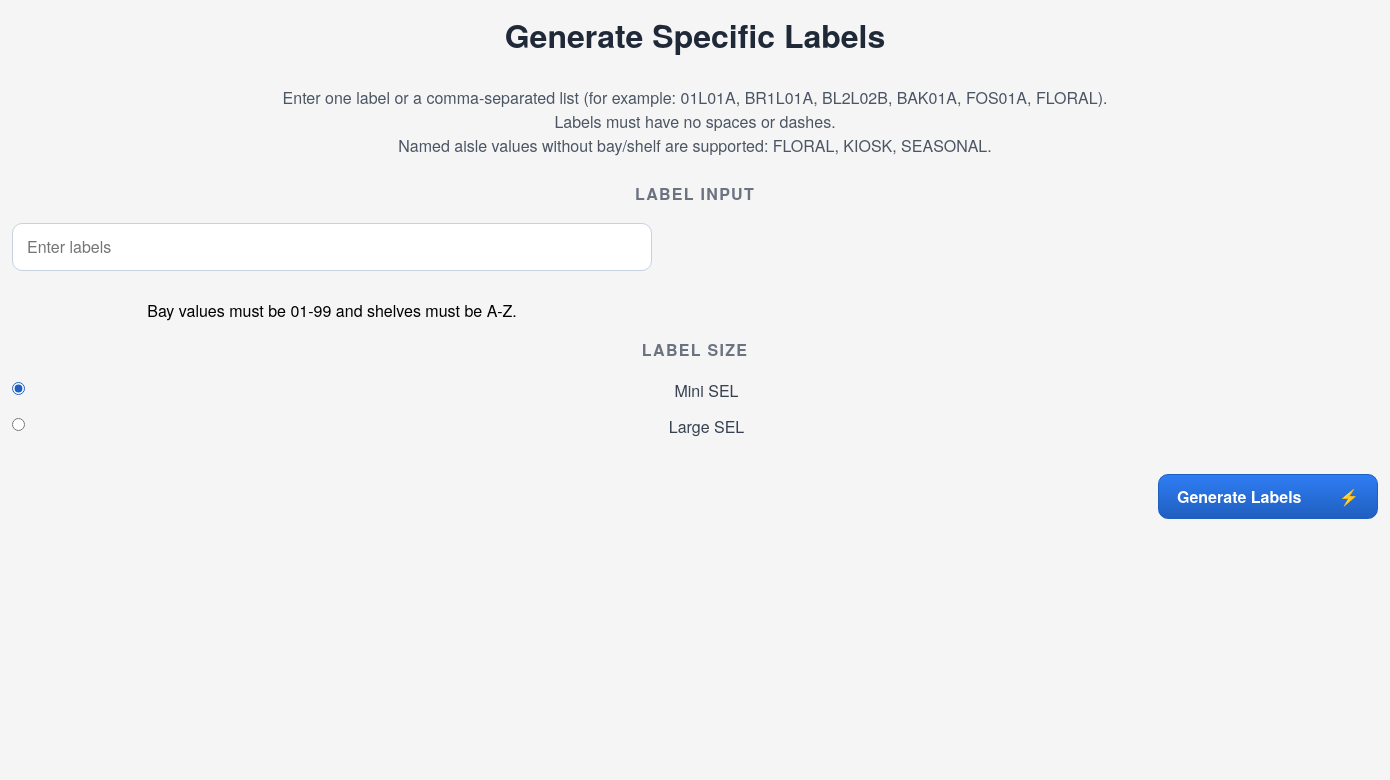
Scenario: SpecificLabelForm › blocks special codes (e.g. KIOSK) when large-sel mode is selected
The width and height of the screenshot is (1390, 780).
Click the radio button labelled "Large SEL" at (18, 424), box [12,418,25,431]
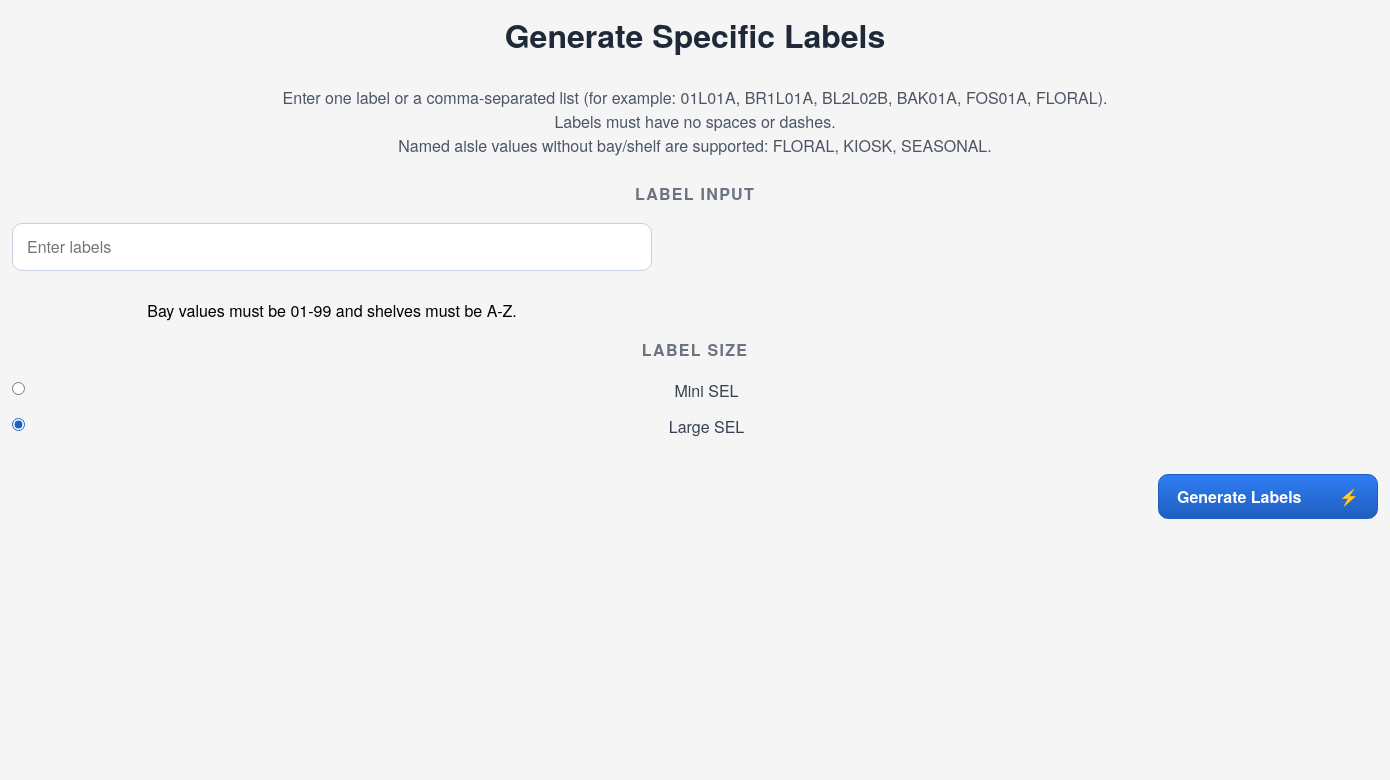
Type "KIOSK" into the field with placeholder "Enter labels" at (332, 247), box [12,223,652,271]
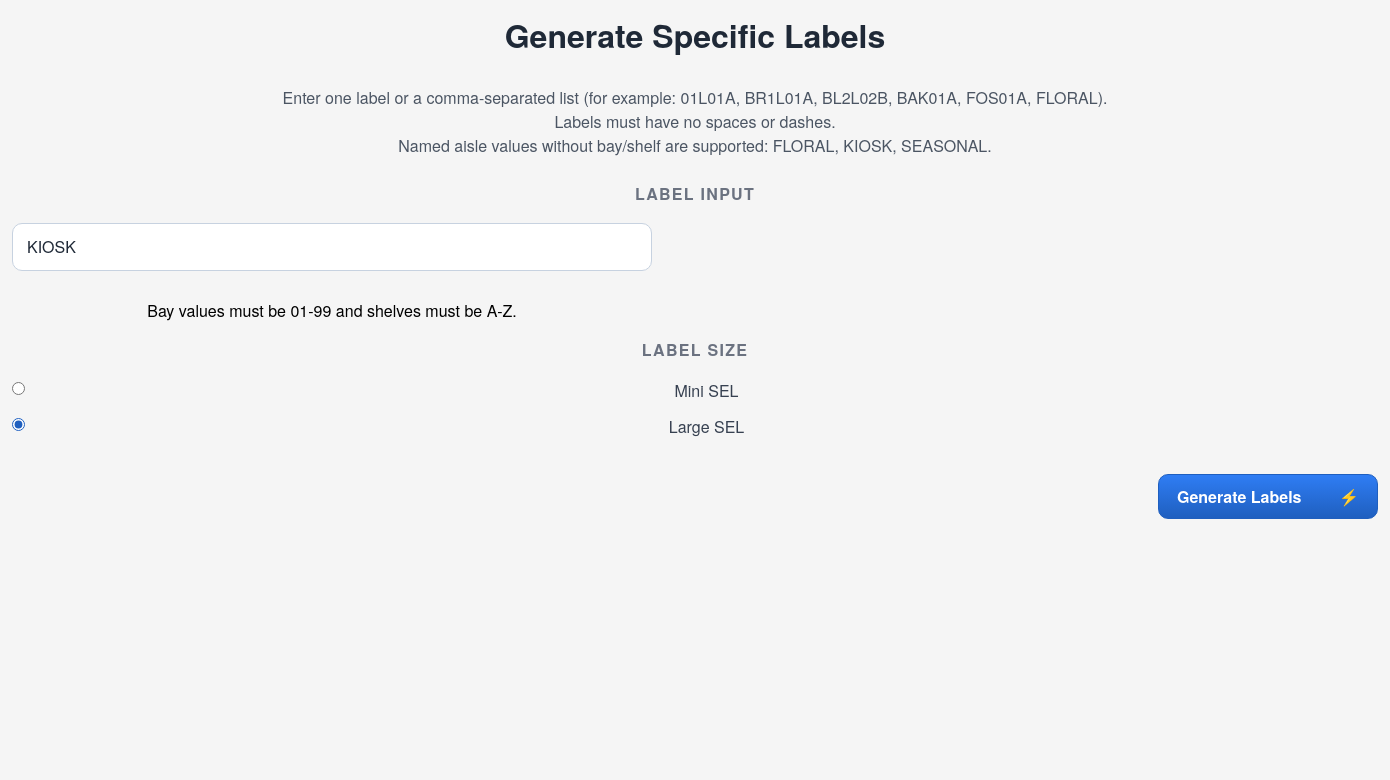
Click the button "Generate Labels ⚡" at (1268, 496), box [1158,474,1378,519]
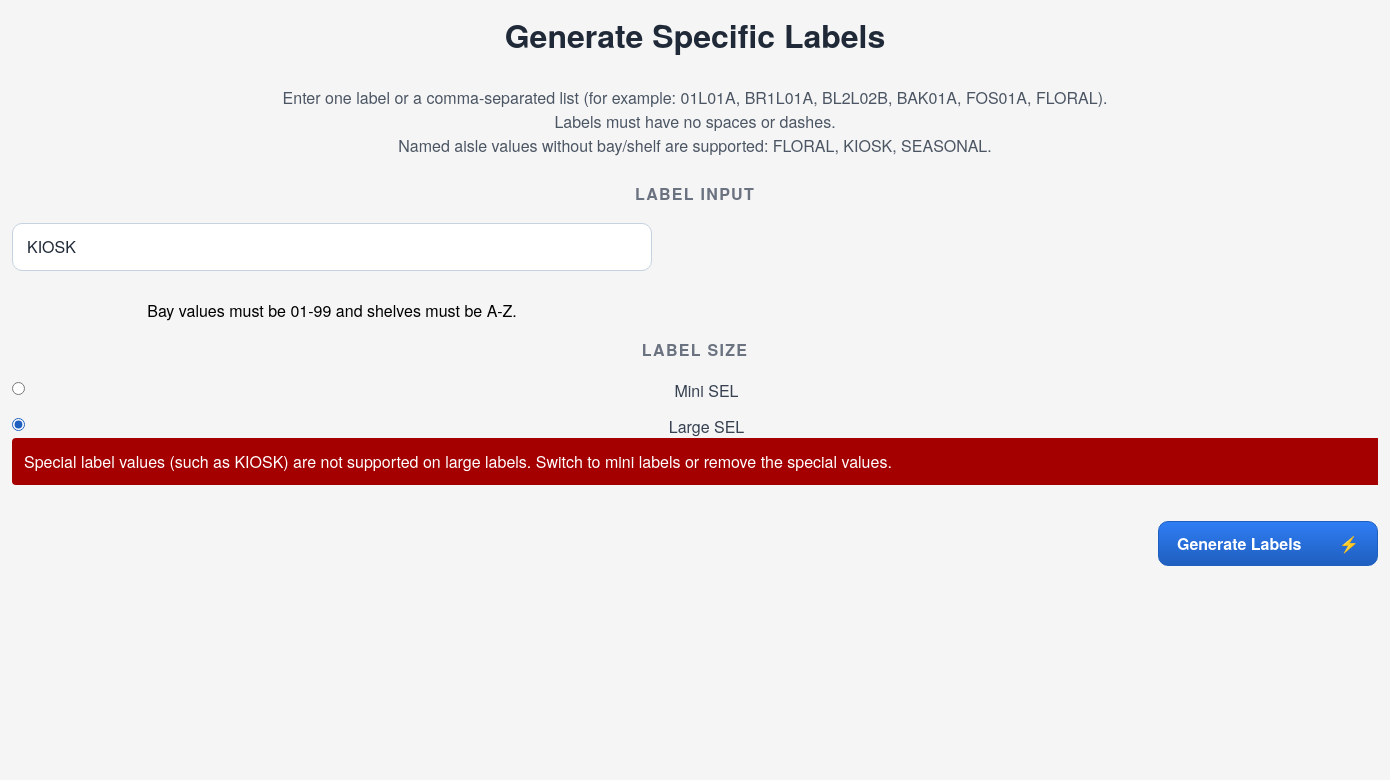
Expected: the message shows "Special label values", [24,450,892,473]
